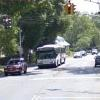Bus: (32, 40, 72, 70)
